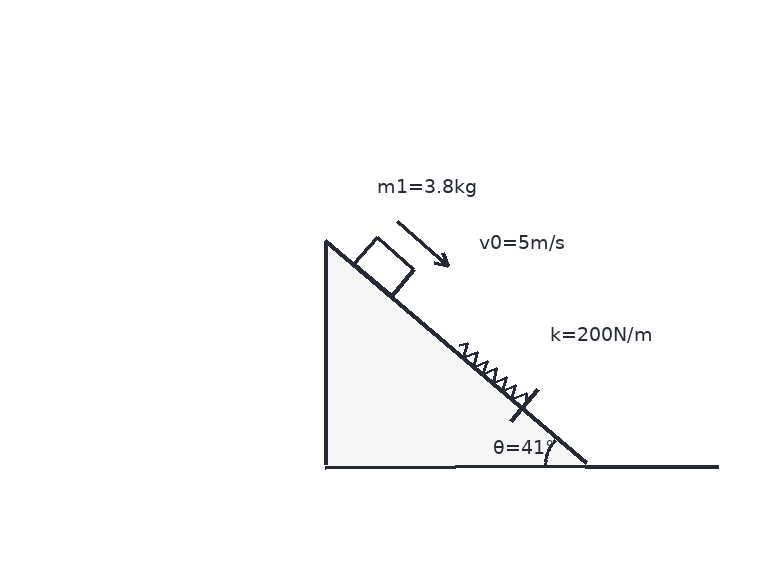block: (351, 236, 415, 298)
ramp: (323, 238, 587, 468)
spring: (457, 341, 528, 405)
